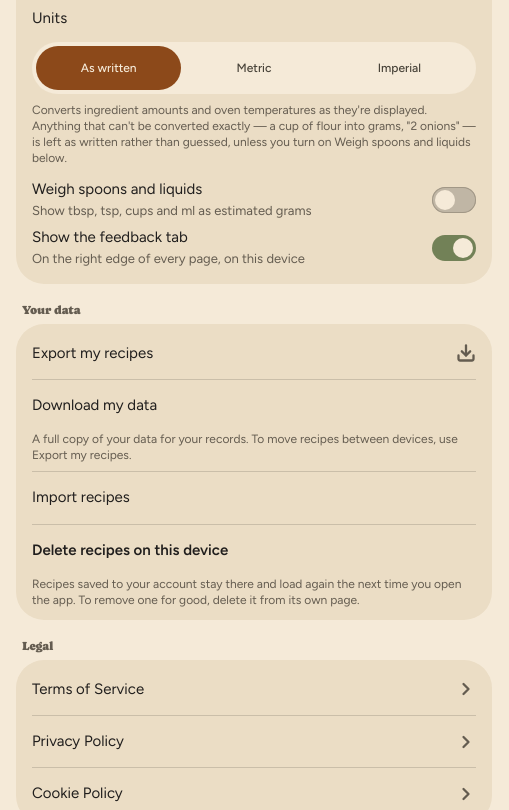
Settings: Download my data › raises an alert when every cloud read failed, and still downloads the local part
(page scrolled)
Click the button "Download my data" at (95, 405), box [32, 380, 476, 431]
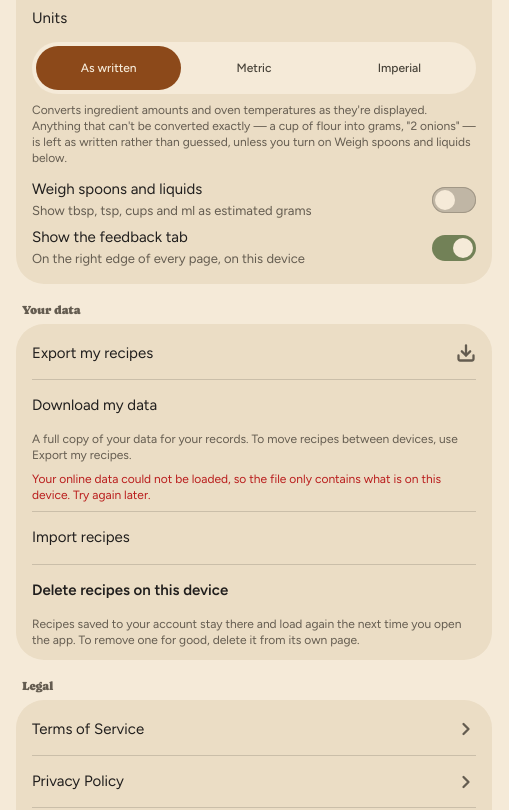
Check: the message shows "could not be loaded", box [32, 472, 441, 502]
